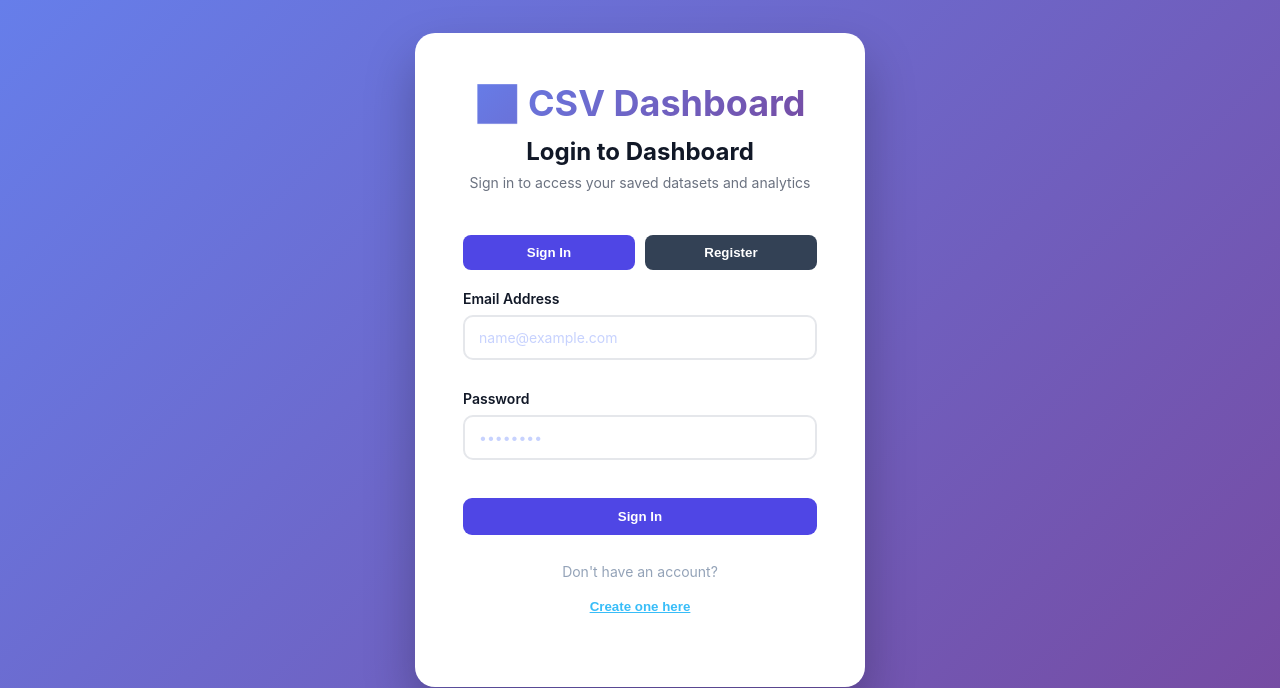
AI Data Analyzer Frontend – Phase 3 Test Suite › Form Validation › switches to registration mode and enforces password match and minimum length
The width and height of the screenshot is (1280, 688).
# Switch to Register tab
Click the button "Register" at (731, 252), box [645,235,817,270]
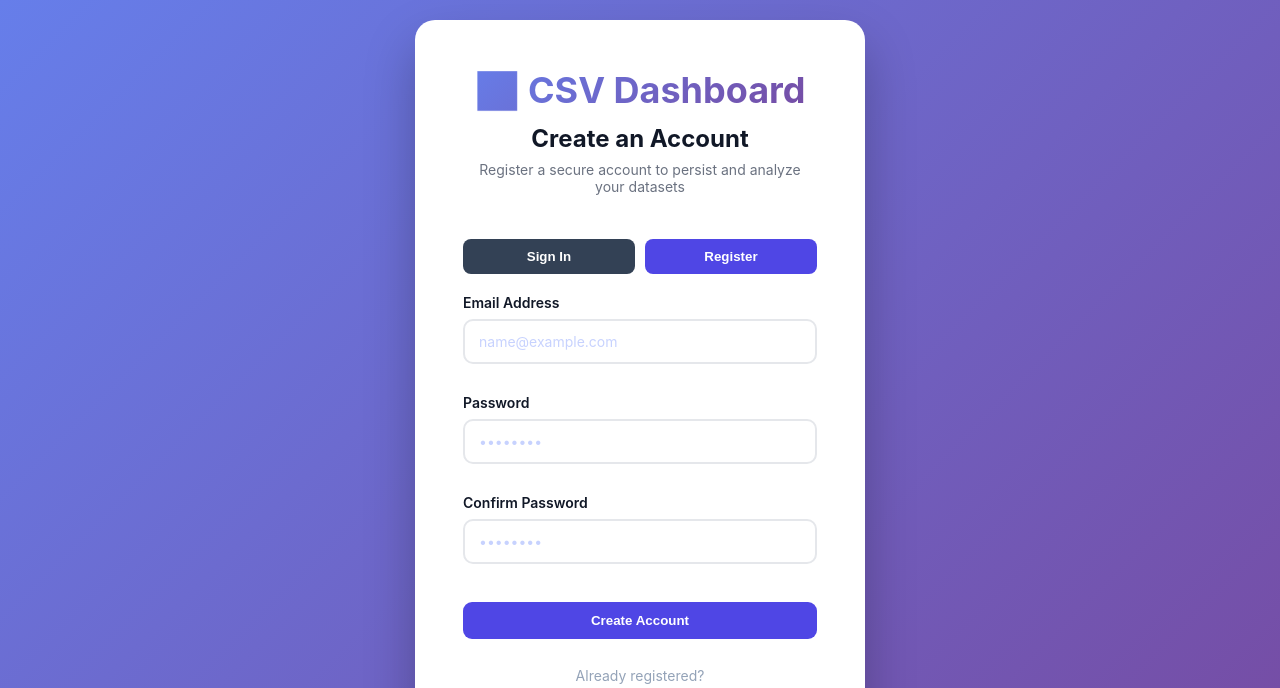
Expected: the heading "Create an Account" is shown, [531,124,749,153]
Expected: the password field labelled "Confirm Password" is shown, [463,519,817,564]
Type "newuser@example.com" into the field labelled "Email Address" at (640, 342), box [463,319,817,364]
Type "123" into the password field labelled "Password" at (640, 442), box [463,419,817,464]
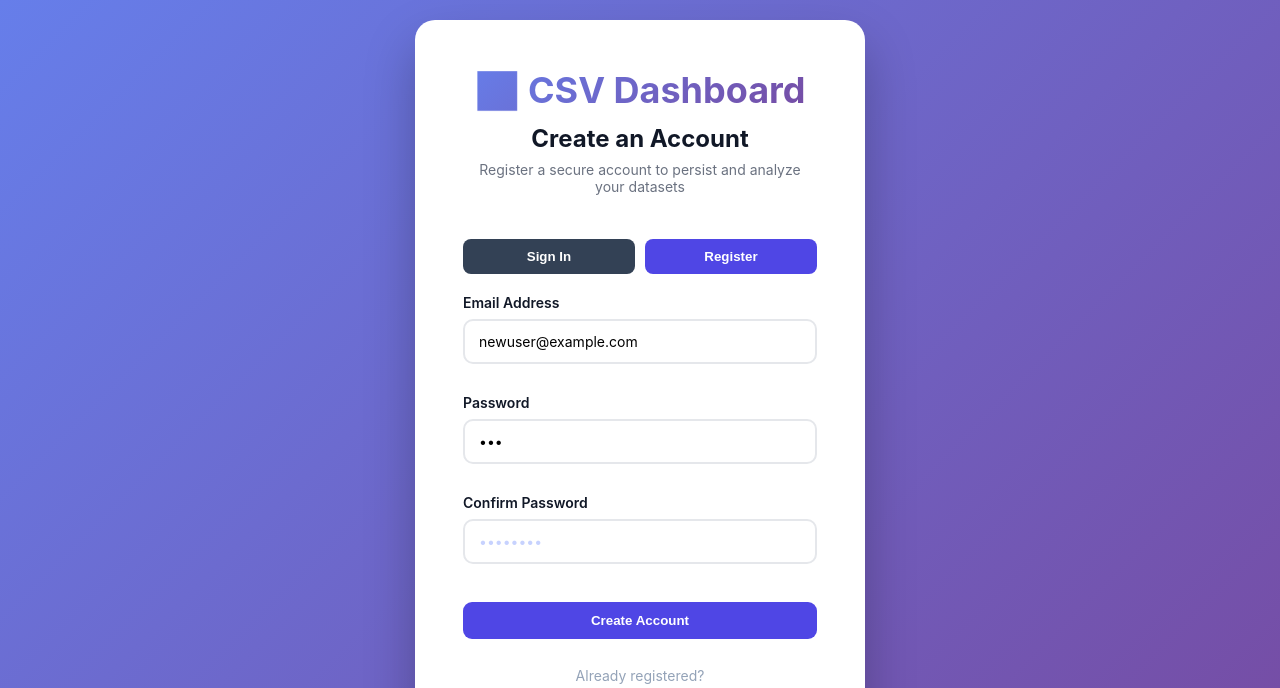
Click the button with test id "auth-submit-btn" at (640, 620), box [463,602,817,639]
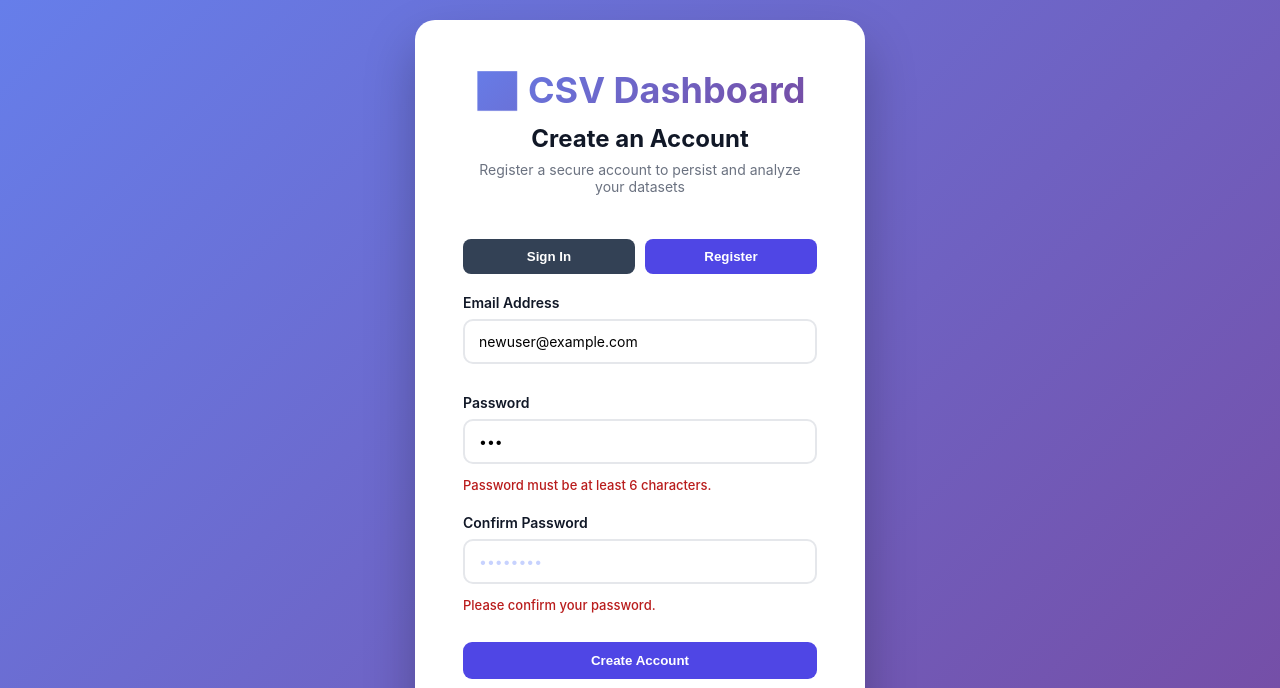
Expected: the text "Password must be at least 6 characters." is shown, [463,477,712,493]
# Mismatched passwords
Type "Password123!" into the password field labelled "Password" at (640, 442), box [463,419,817,464]
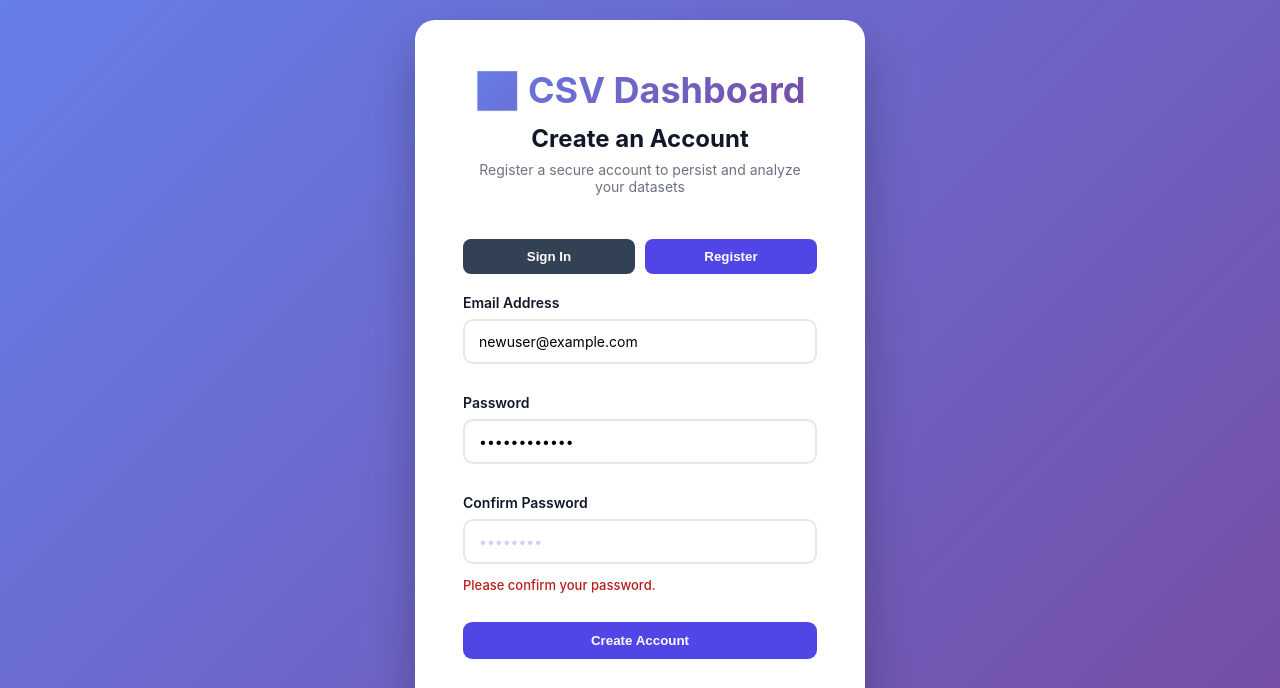
Type "DifferentPassword!" into the password field labelled "Confirm Password" at (640, 542), box [463,519,817,564]
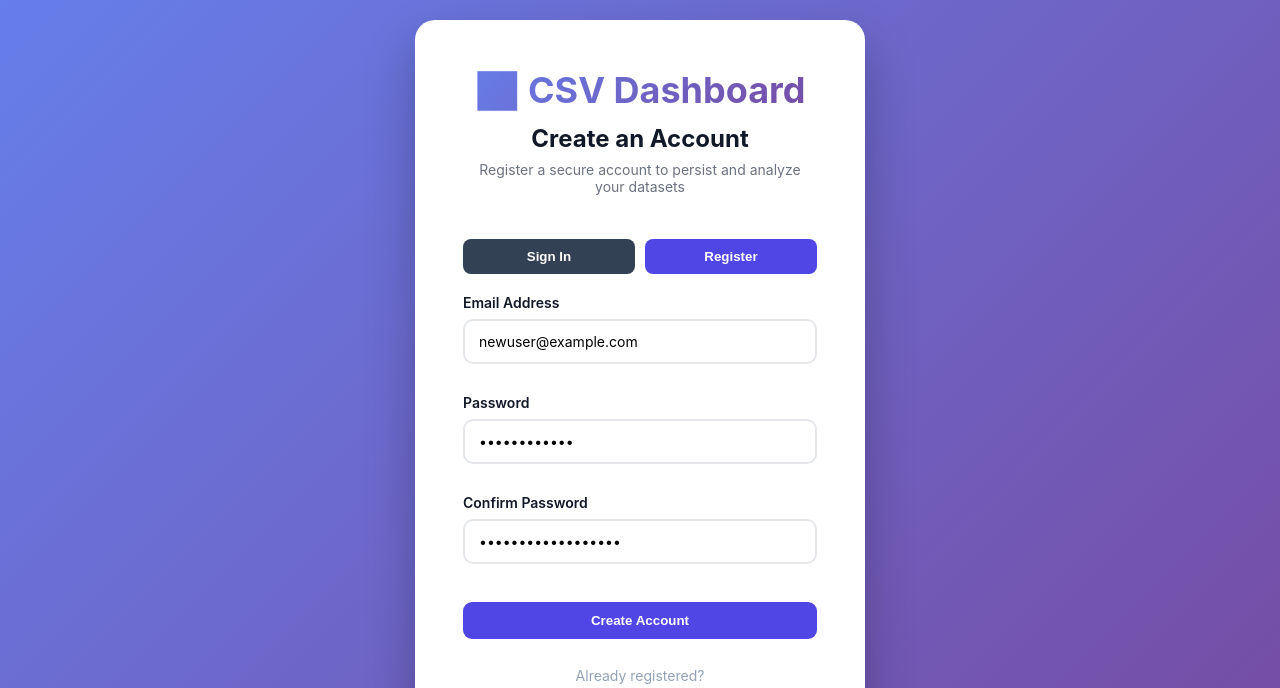
Click the button with test id "auth-submit-btn" at (640, 620), box [463,602,817,639]
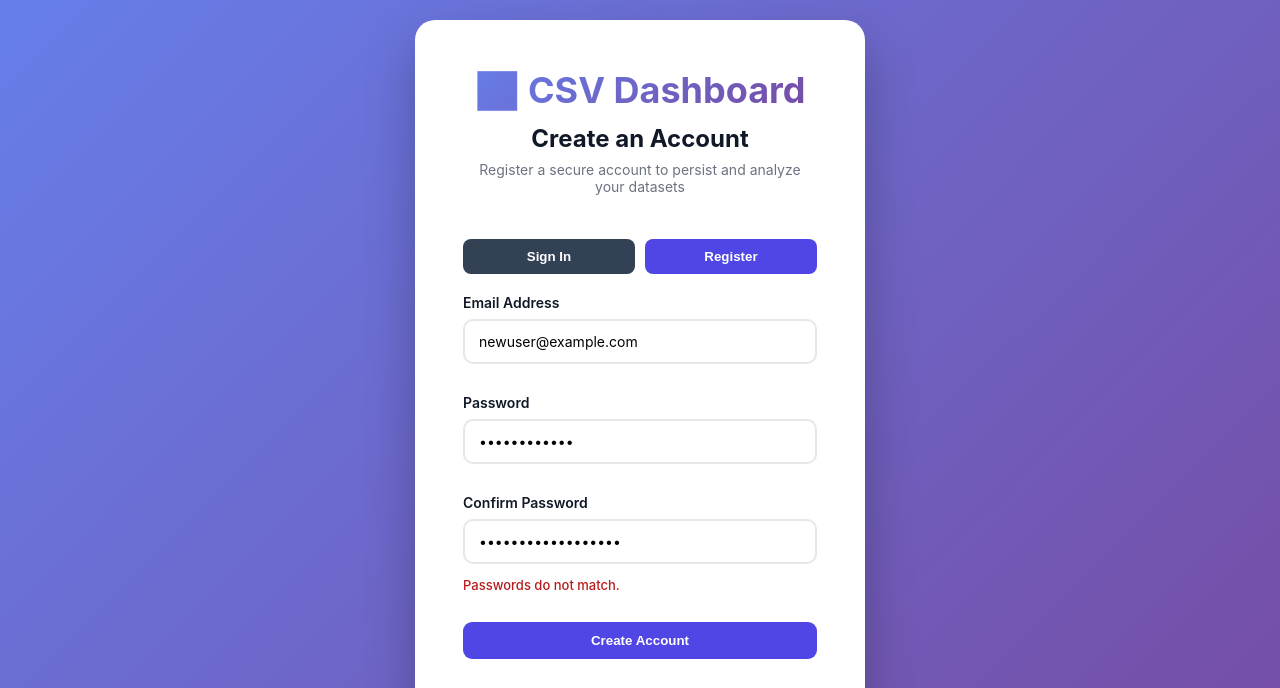
Expected: the text "Passwords do not match." is shown, [463,577,620,593]
